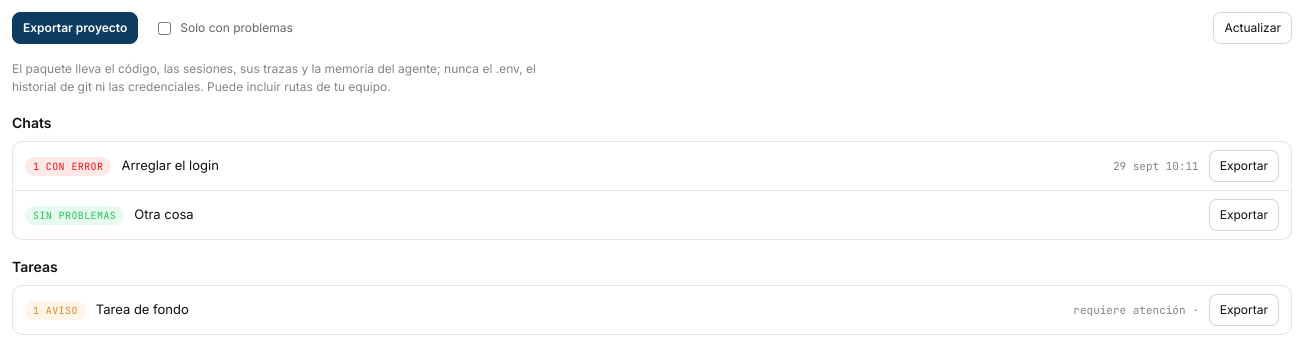
SoporteDelProyecto › el filtro deja solo lo que tiene problemas
What coordinates should you click on to do the following:
click the checkbox labelled "Solo con problemas"
I would click on:
 (165, 28)
Its box is [158,22,171,34].
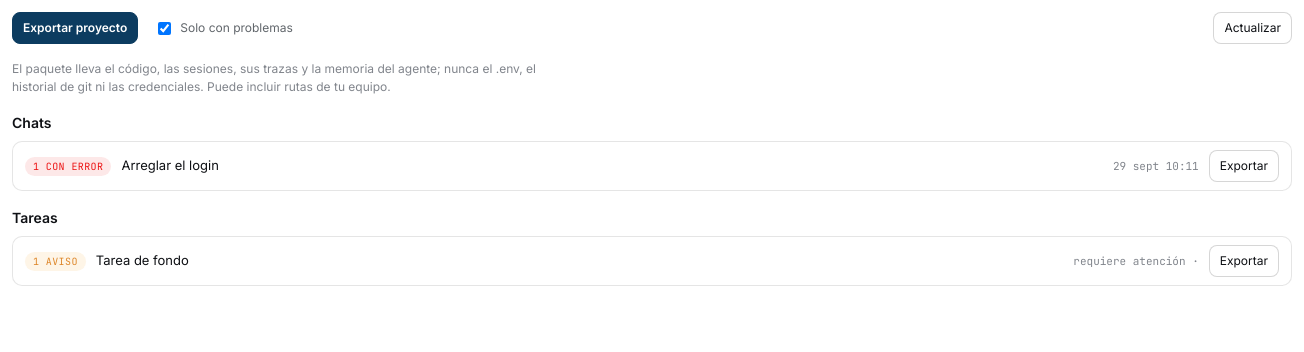
Expected: the button "Arreglar el login" is shown, [121,156,1103,176]
Expected: the text "Otra cosa" is gone
